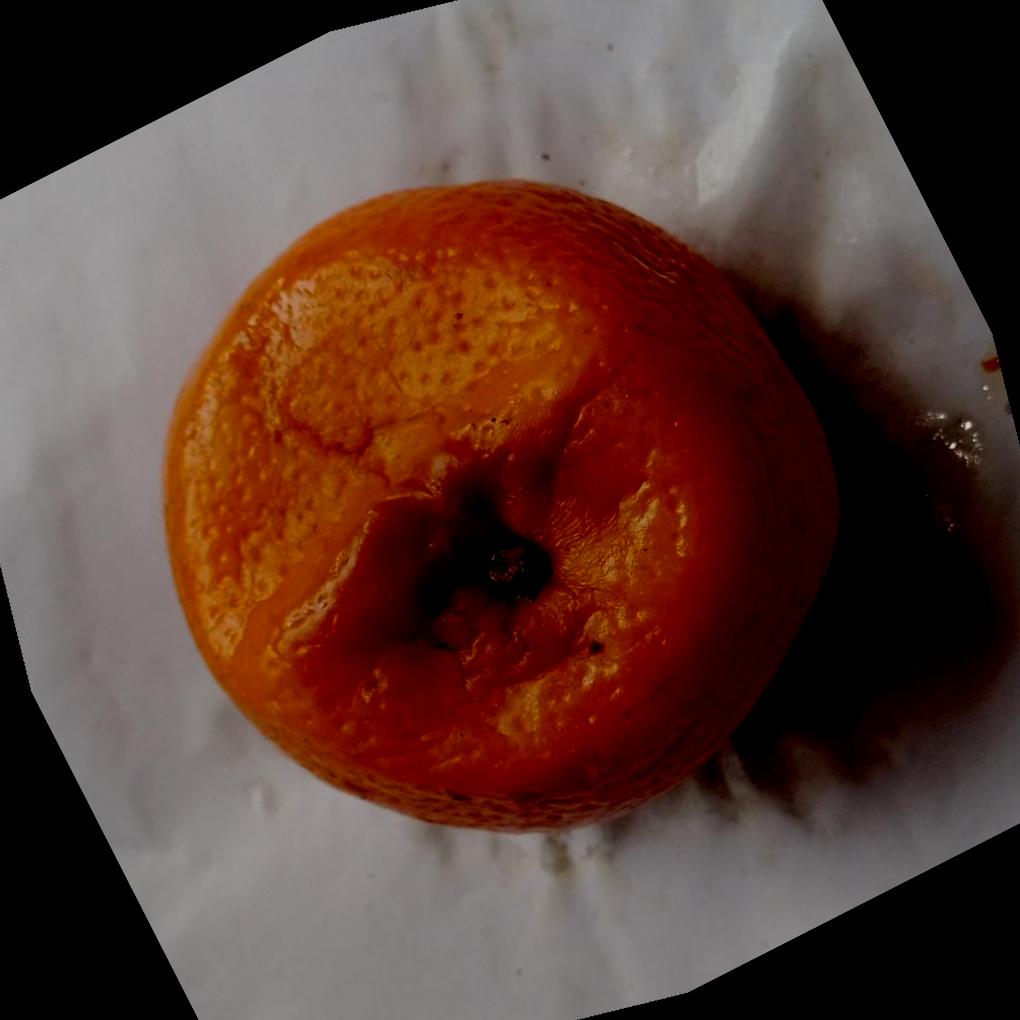FreshOrange: (158, 171, 848, 833)
